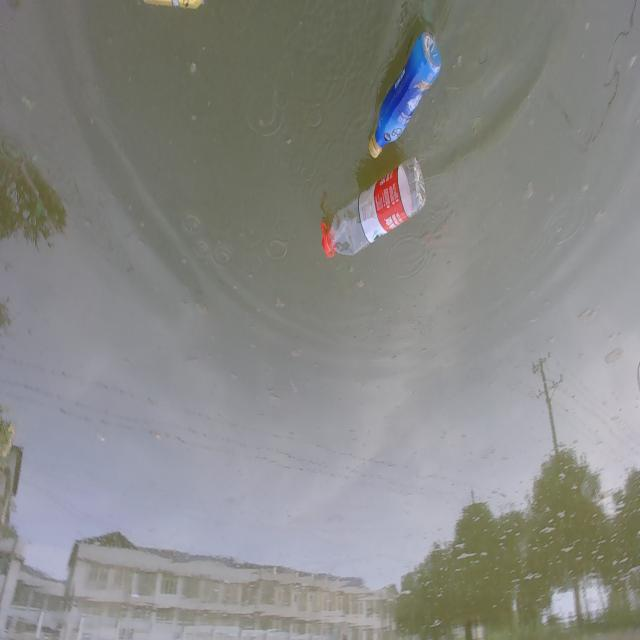garbage: (323, 156, 427, 258), (368, 30, 442, 159)
